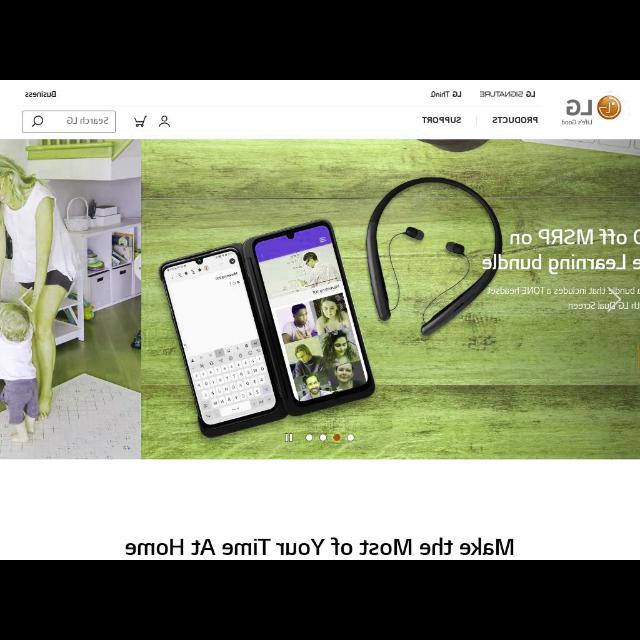icon: (134, 114, 146, 128), (158, 115, 170, 128), (32, 115, 42, 126)
image: (1, 139, 639, 459), (560, 90, 622, 126)
input: (21, 112, 115, 132)
pageindicator: (304, 433, 358, 443)
text: (126, 537, 516, 559), (480, 89, 538, 99), (66, 114, 110, 126), (422, 116, 461, 126), (492, 115, 538, 123), (429, 91, 463, 99), (24, 90, 56, 98)
toolbar: (1, 80, 639, 138)
